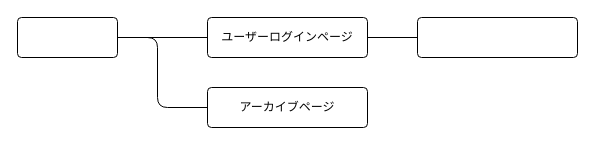
The diagram is 595 pixels wide and 145 high, and some of its shapes have lost their labels. The centre of each missing label's shape, as x and y in pixels:
ユーザー新規登録ページ: the point at 497,37
一覧ページ: the point at 67,37
